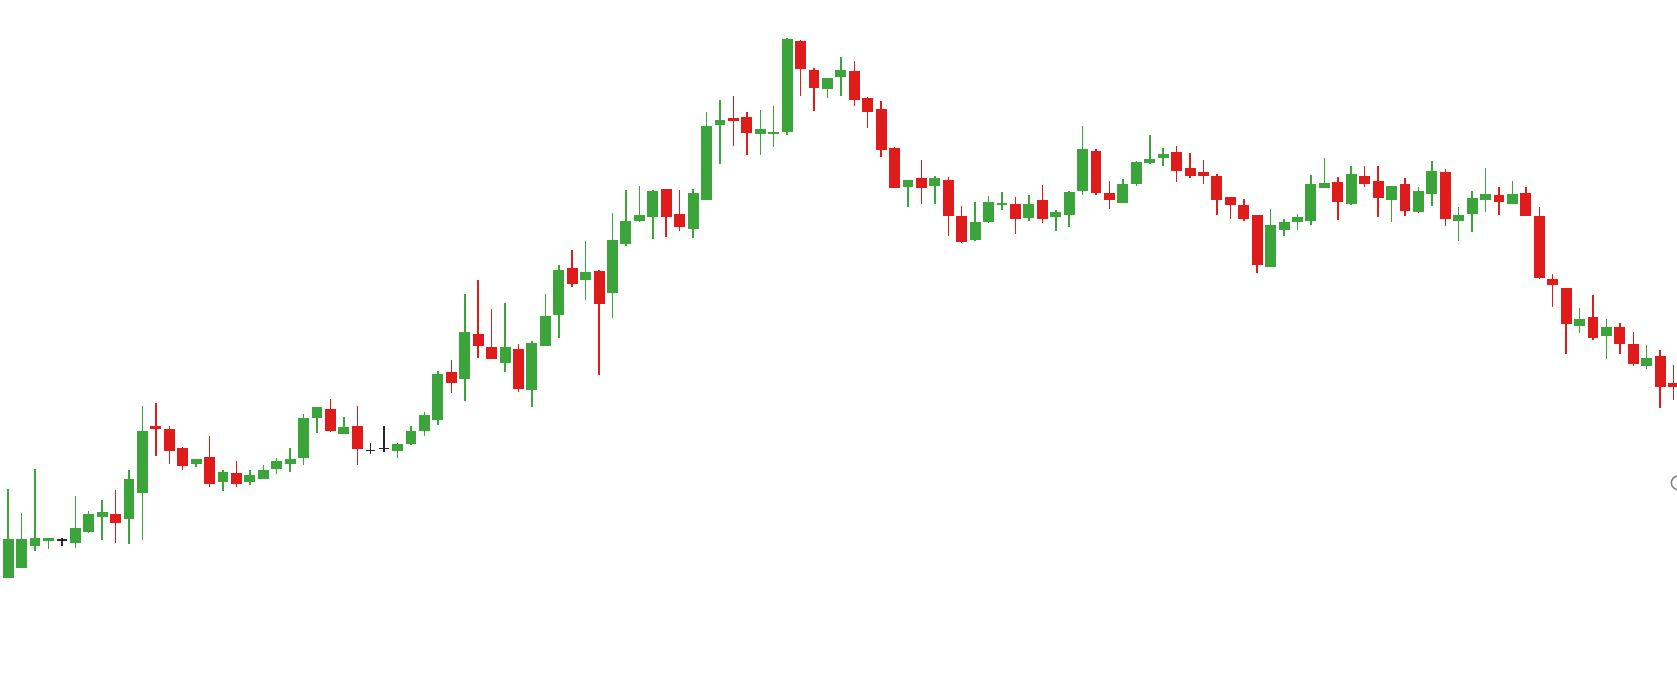buy: (957, 178, 1279, 278)
